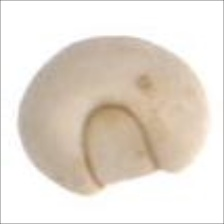L5: (79, 101, 163, 190)
L6: (15, 33, 210, 198)
